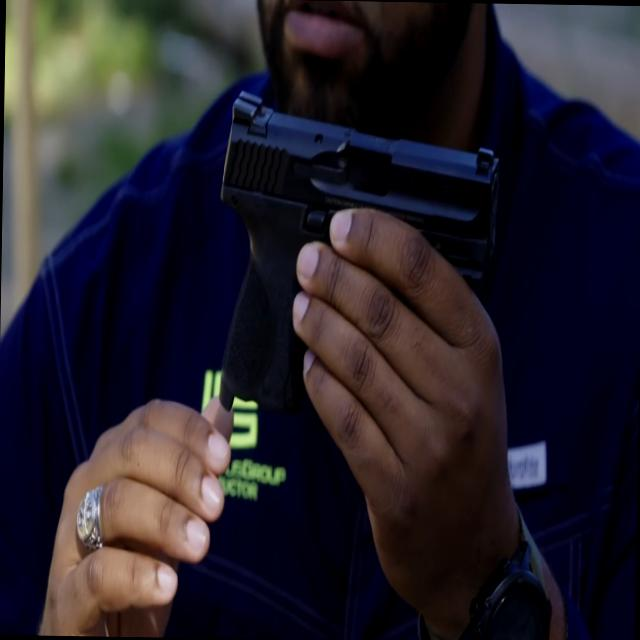handgun: (191, 70, 514, 478)
